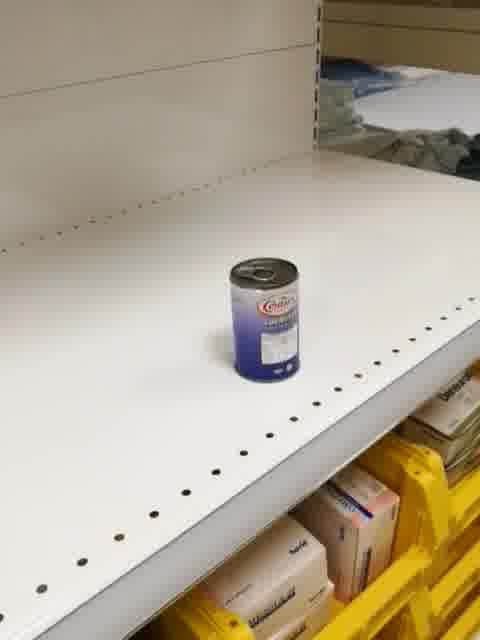sardine: (230, 256, 302, 383)
